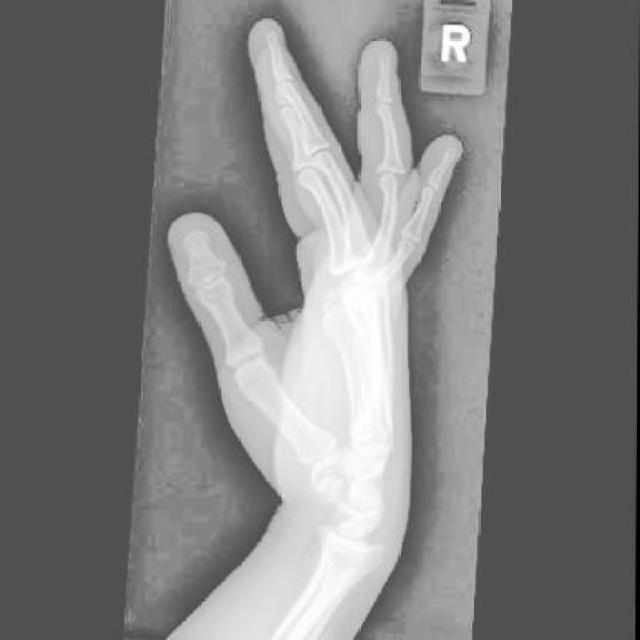Fracture: (372, 155, 400, 177)
